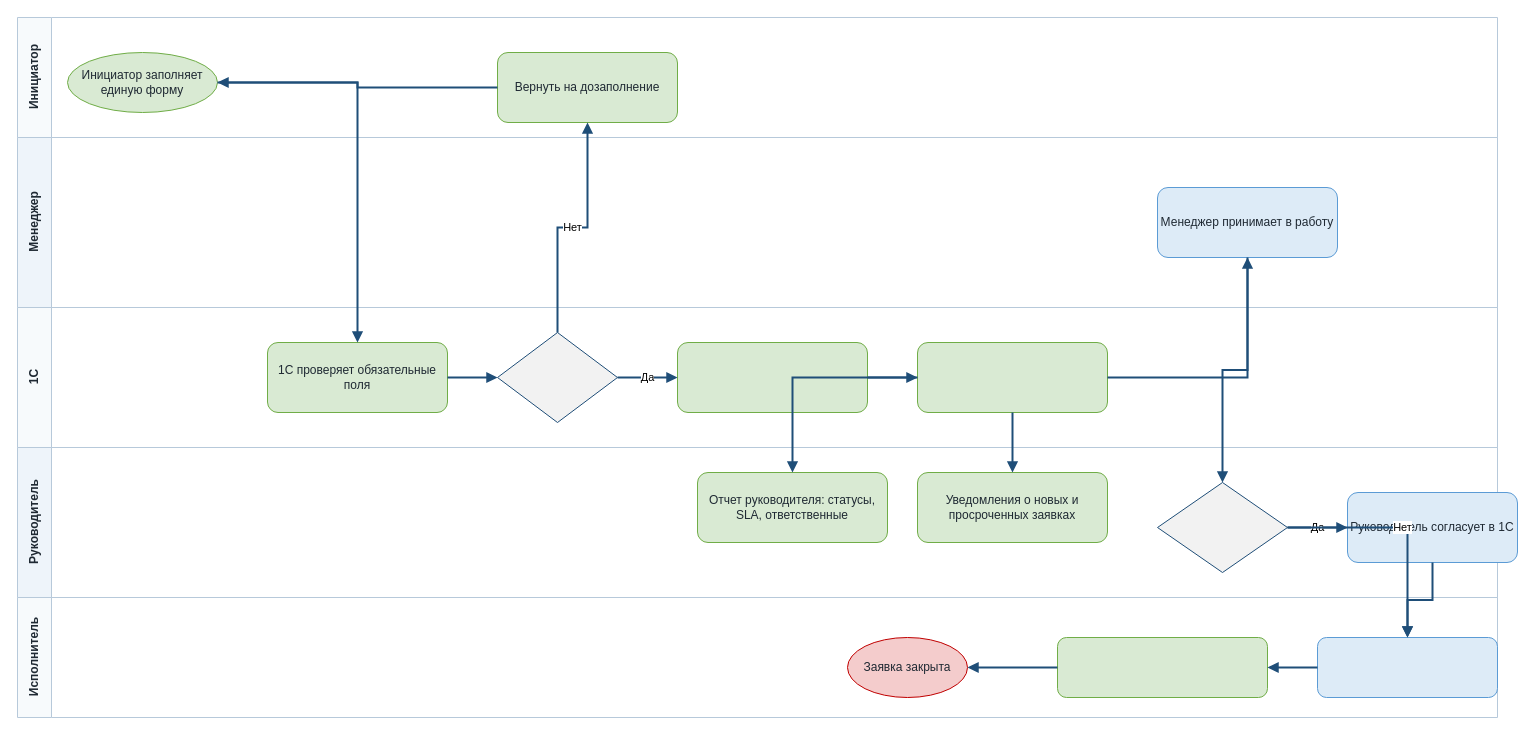
Image size: 1535x735. Some labels were removed from this diagram. The centre of each missing label's shape, as x and y in pixels:
1С фиксирует закрытие и обновляет отчет: [1162,667]
Данные корректны?: [557,377]
Исполнитель выполняет заявку: [1407,667]
Назначить ответственного и SLA: [1012,377]
Нужно согласование?: [1222,527]
Создать заявку со статусом Новая: [772,377]
